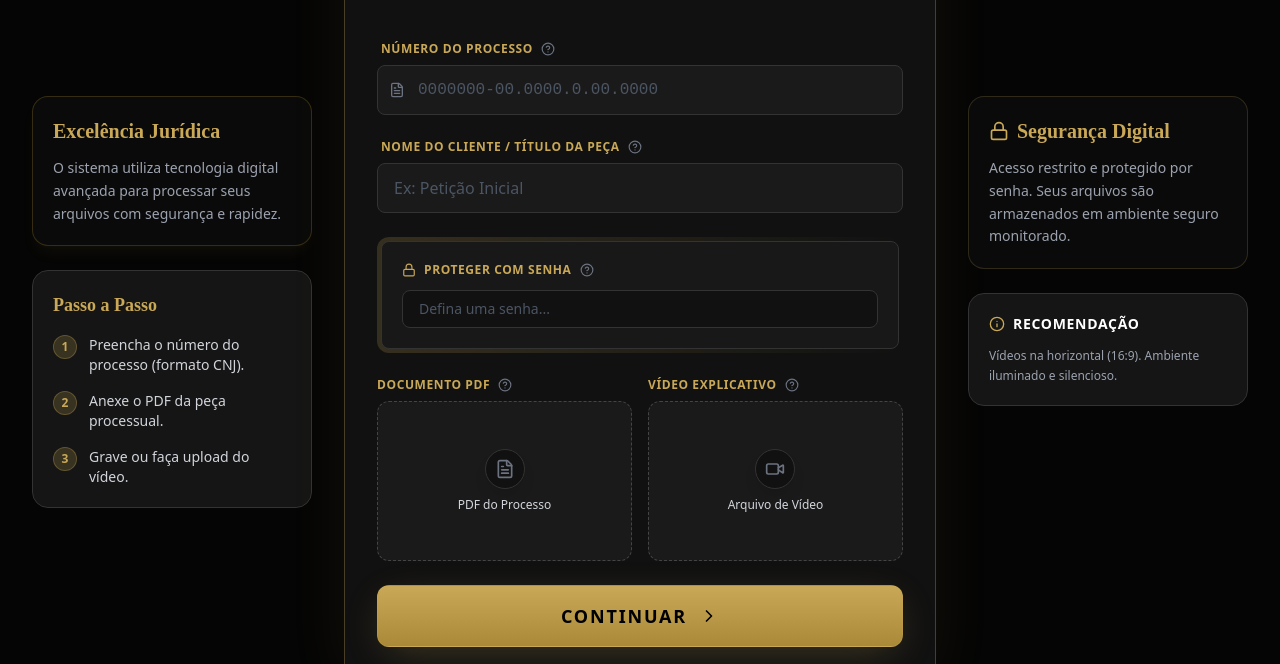
it: UploadForm Component › Validação de Campos › deve mostrar erro quando campos obrigatórios estão vazios
(page scrolled)
Click the button "Continuar" at (640, 616), box [377,585,903,647]
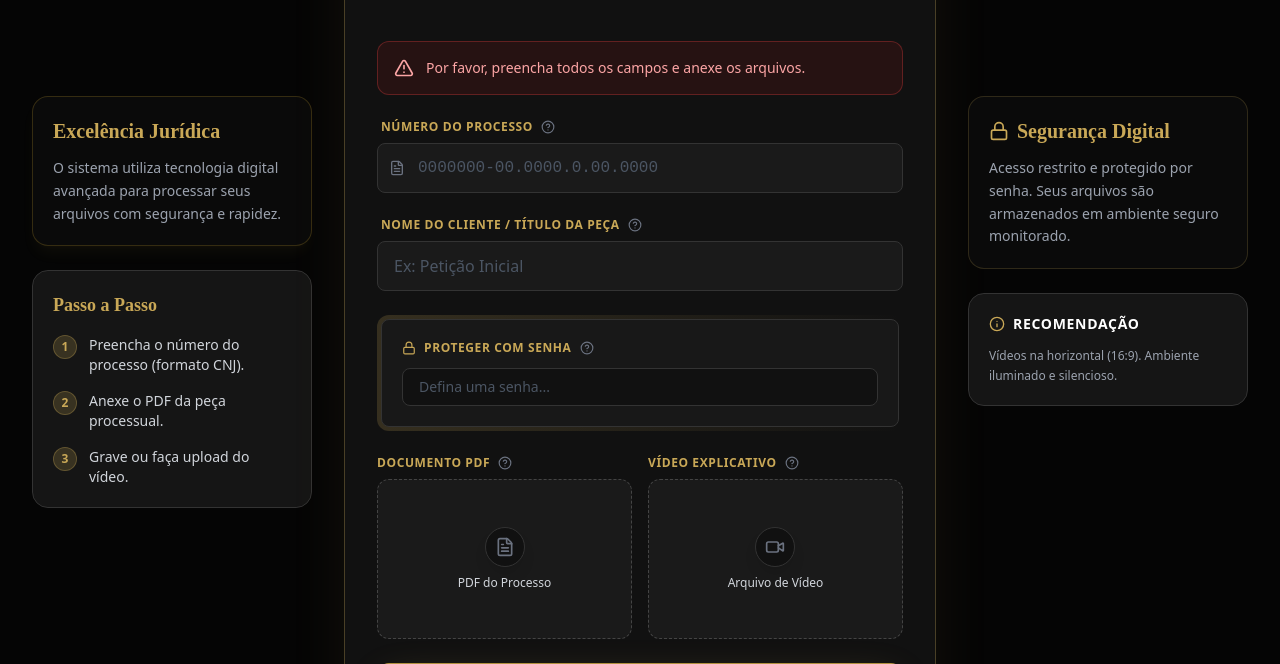
Check: the text "Por favor, preencha todos os campos e anexe os arquivos." is shown, box [426,58,805,78]
